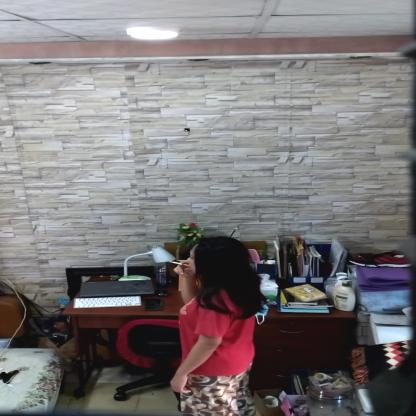cigarette: (169, 260, 190, 266)
person: (172, 236, 262, 416)
